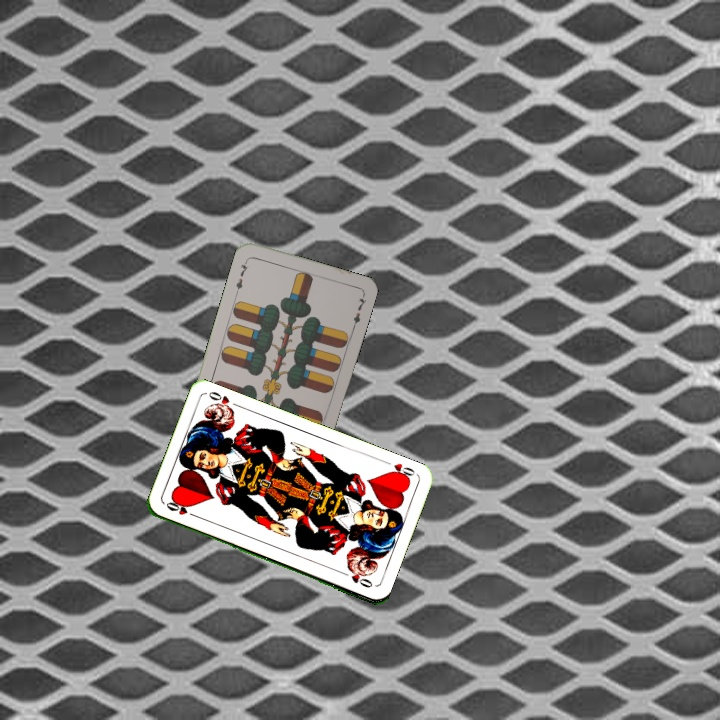E7: (232, 255, 251, 295)
HO: (384, 459, 419, 483), (162, 498, 200, 520)
